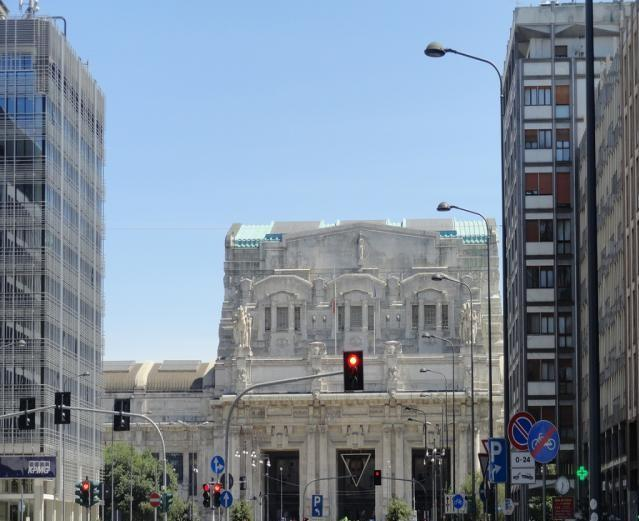red_light: (342, 350, 364, 391), (81, 480, 90, 505), (212, 483, 221, 508), (202, 484, 210, 508)
